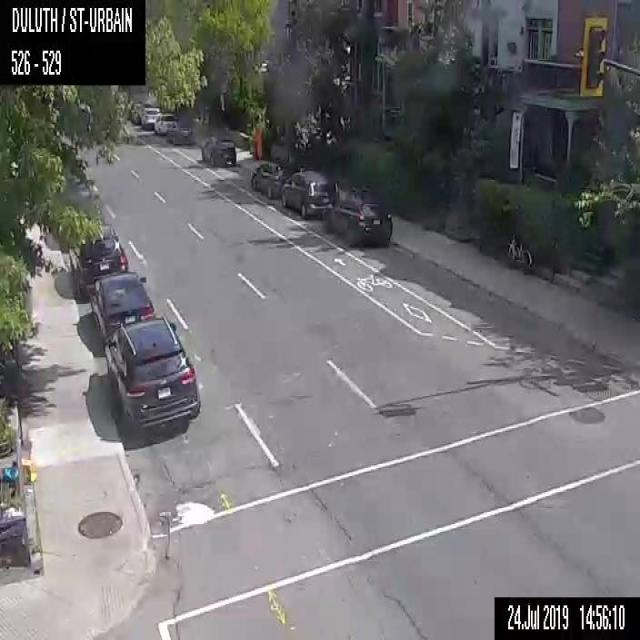construction: (254, 127, 261, 160)
vehicle: (103, 318, 201, 436), (90, 272, 157, 342), (323, 189, 392, 247), (70, 230, 124, 296), (282, 169, 336, 218), (251, 161, 290, 196), (154, 112, 190, 146), (200, 137, 236, 166), (140, 106, 160, 129)
